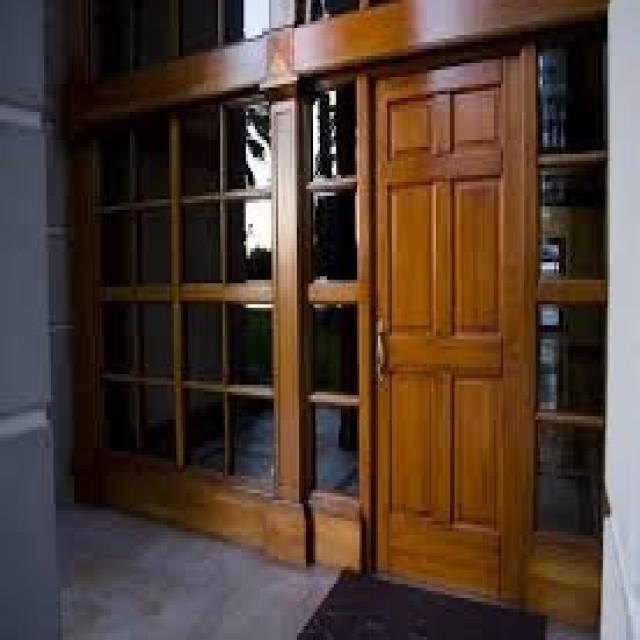door: (370, 47, 537, 607)
